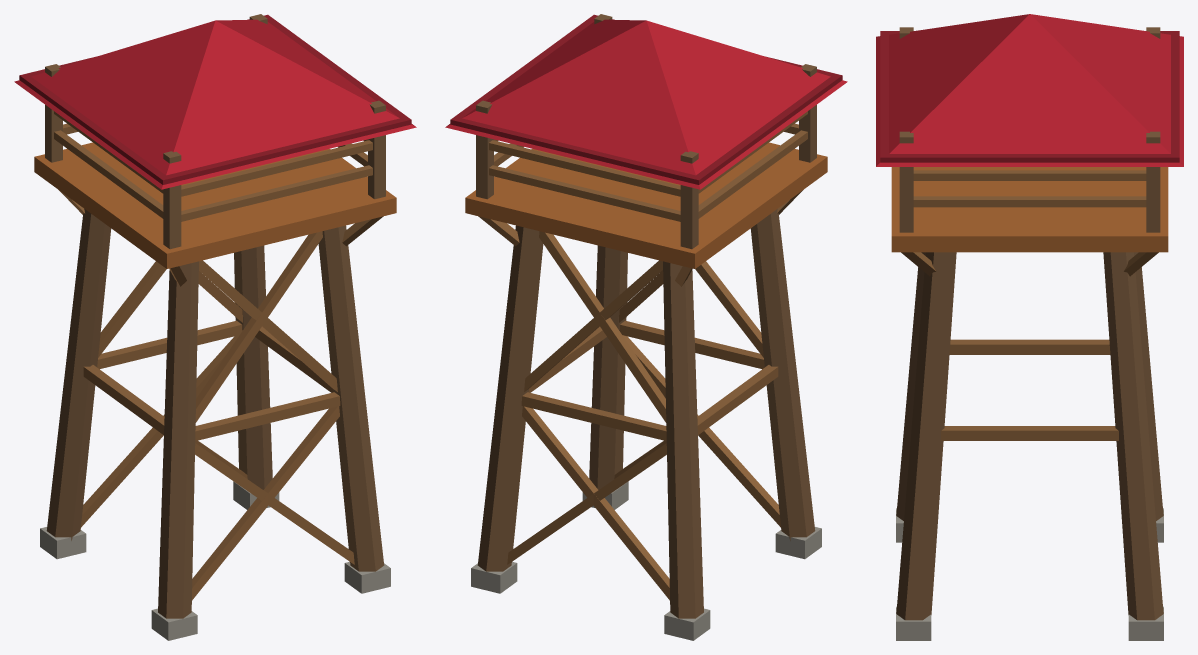
The model's file is watchtower.glb.
The picture shows the model from 3 angles, left to right: view 1: azimuth 30°, elevation 25°; view 2: azimuth 150°, elevation 25°; view 3: azimuth 270°, elevation 25°; orthographic projection. The views are drawn at different scales.
Parts seen in each view (by area): view 1: watchtower; view 2: watchtower; view 3: watchtower.
Part boxes in pixels (x1,y1,x2,y2): watchtower: (14,14,416,640); watchtower: (445,14,847,640); watchtower: (876,14,1183,640).
Bounding box in the file's own units: 4.89 × 10 × 4.89.
